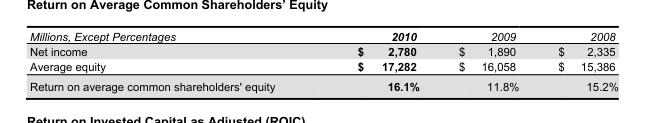table: (29, 29, 617, 92)
table column: (29, 29, 315, 92), (315, 29, 438, 92), (438, 29, 537, 92), (537, 29, 617, 92)
table column header: (29, 29, 617, 43)
table row: (29, 58, 617, 75), (29, 75, 617, 92), (29, 43, 617, 58), (29, 29, 617, 43)
